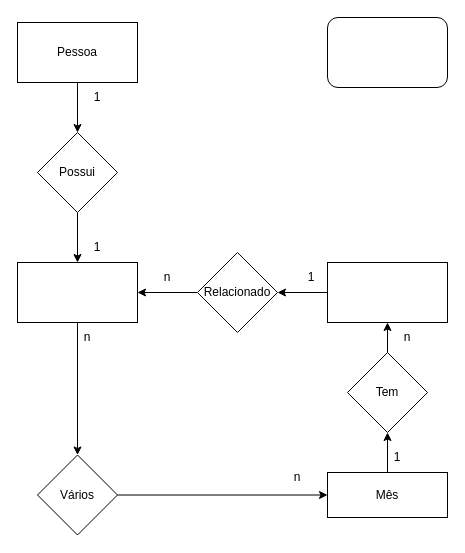
The diagram is 465 pixels wide and 553 high, and some of its shapes have lost their labels. The shapes that lost their labels are listed below. From the top down, each one's centre as x and y in pixels, then its label:
point (387, 52): Aulas-Novotec/Switch2
point (77, 292): Aniversário
point (387, 292): Horóscopo
